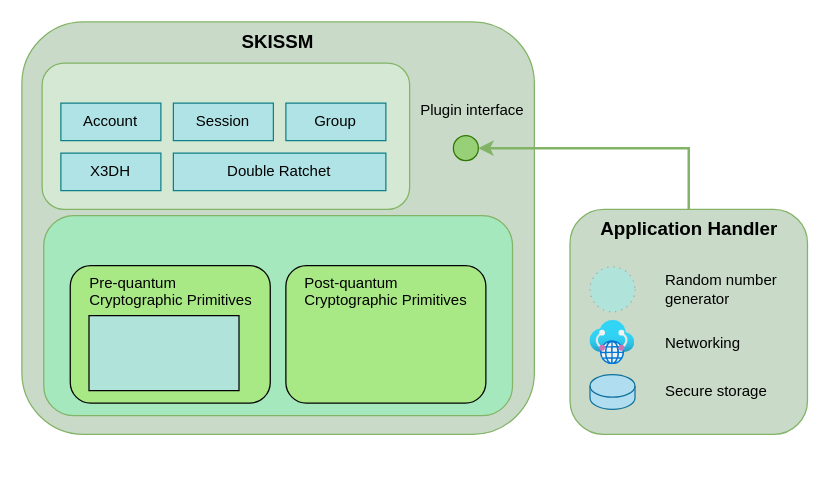
The diagram is 830 pixels wide and 481 high, and some of its shapes have lost their labels. Here are the shapes that lost their labels. From the top down, the box of each, then its label:
(41, 62, 410, 209): E2EE protocols
(589, 266, 635, 312): RNG
(42, 214, 512, 416): Cipher Suites
(88, 314, 239, 391): ． ECDH-X25519 ． AES256-GCM ． SHA256
